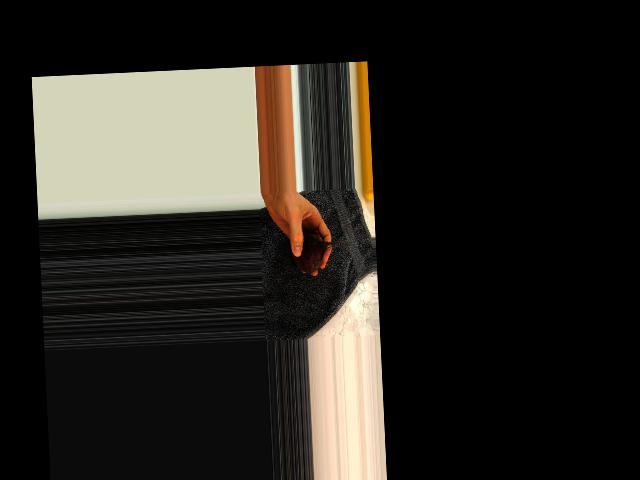beet: (288, 230, 351, 274)
